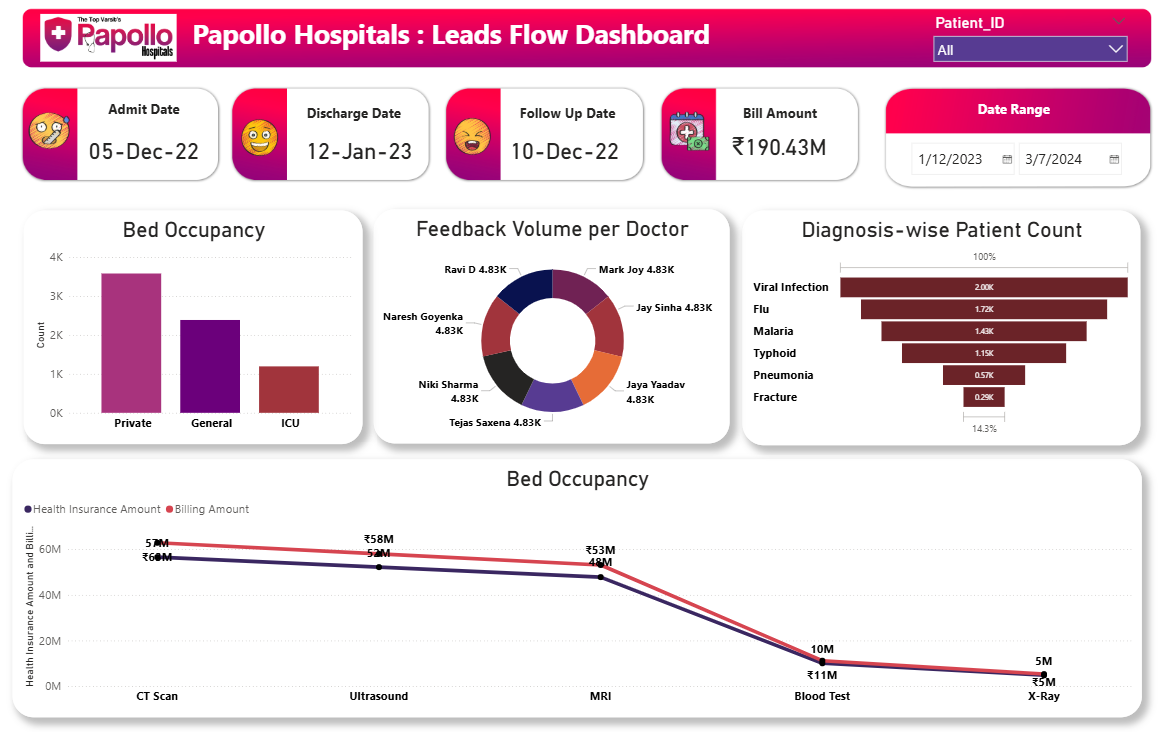

Layout of this report page (visuals, bound fields, positions):
{"tool":"powerbi","page":{"name":"Page 2","canvas":[1680,1050],"ordinal":0},"visuals":[{"type":"textbox","box":[280,27.1,755.7,74.3],"z":0},{"type":"image","box":[2636.7,100,623.3,150],"z":1000},{"type":"slicer","fields":{"Values":["Sheet1.Patient_ID"]},"box":[2400,373.3,793.3,420],"z":2000},{"type":"card","fields":{"Values":["Min(Sheet1.Admit_Date)"]},"box":[437.6,198.8,162.9,42.8],"z":3000},{"type":"card","fields":{"Values":["Min(Sheet1.Discharge_Date)"]},"box":[129.8,198.8,172.6,42.8],"z":4000},{"type":"card","fields":{"Values":["Min(Sheet1.Followup Date)"]},"box":[724.3,198.6,167.1,42.9],"z":5000},{"type":"textbox","box":[152.9,145.7,127.1,57.1],"z":6000},{"type":"textbox","box":[437.1,151.4,151.4,37.1],"z":7000},{"type":"textbox","box":[732.9,151.4,158.6,37.1],"z":8000},{"type":"textbox","box":[1035.7,151.4,151.4,37.1],"z":9000},{"type":"card","fields":{"Values":["Sum(Sheet1.Billing Amount)"]},"box":[1031.4,194.3,158.6,42.9],"z":10000},{"type":"image","box":[50,157.1,68.6,74.3],"z":11000},{"type":"image","box":[348.6,172.9,62.9,62.9],"z":12000},{"type":"image","box":[640,171.4,77.1,62.9],"z":13000},{"type":"image","box":[951.4,158.6,65.7,71.4],"z":14000},{"type":"columnChart","title":"Bed Occupancy","fields":{"Category":["Sheet1.Bed_Occupancy"],"Y":["CountNonNull(Sheet1.Bed_Occupancy)"]},"box":[47.1,305.7,477.1,328.6],"z":15000},{"type":"donutChart","title":"Feedback Volume per Doctor","fields":{"Category":["Sheet1.Doctor"],"Y":["Sum(Sheet1.Feedback)"]},"box":[540.2,305.2,501,329.5],"z":16000},{"type":"funnel","title":"Diagnosis-wise Patient Count","fields":{"Category":["Sheet1.Diagnosis"],"Y":["CountNonNull(Sheet1.Diagnosis)"]},"box":[1060,305.7,560,330],"z":17000},{"type":"image","box":[30,24.3,274.3,77.1],"z":18000},{"type":"lineChart","title":"Bed Occupancy","fields":{"Y":["Sum(Sheet1.Health Insurance Amount)","Sum(Sheet1.Billing Amount)"],"Category":["Sheet1.Test"]},"box":[31.1,656.3,1589.5,363.3],"z":19000},{"type":"slicer","fields":{"Values":["Sheet1.Admit_Date"]},"box":[1284.3,201.2,360.6,68.9],"z":20000},{"type":"slicer","fields":{"Values":["Sheet1.Patient_ID"]},"box":[1317.1,24.3,292.9,82.9],"z":21000},{"type":"textbox","box":[1365.7,145.7,151.4,37.1],"z":22000}]}

Visuals, with their boxes in screenshot pixels (x1, y1, x2, y2), scaled from the page's 1680x1050 canvas onto the 1168x732 screenshot:
textbox: 195,19,720,71
card - Min(Sheet1.Admit_Date): 304,139,417,168
card - Min(Sheet1.Discharge_Date): 90,139,210,168
card - Min(Sheet1.Followup Date): 504,138,620,168
textbox: 106,102,195,141
textbox: 304,106,409,131
textbox: 510,106,620,131
textbox: 720,106,825,131
card - Sum(Sheet1.Billing Amount): 717,135,827,165
image: 35,110,82,161
image: 242,121,286,164
image: 445,119,499,163
image: 661,111,707,160
"Bed Occupancy" columnChart: 33,213,364,442
"Feedback Volume per Doctor" donutChart: 376,213,724,442
"Diagnosis-wise Patient Count" funnel: 737,213,1126,443
image: 21,17,212,71
"Bed Occupancy" lineChart: 22,458,1127,711
slicer - Sheet1.Admit_Date: 893,140,1144,188
slicer - Sheet1.Patient_ID: 916,17,1119,75
textbox: 949,102,1055,127
